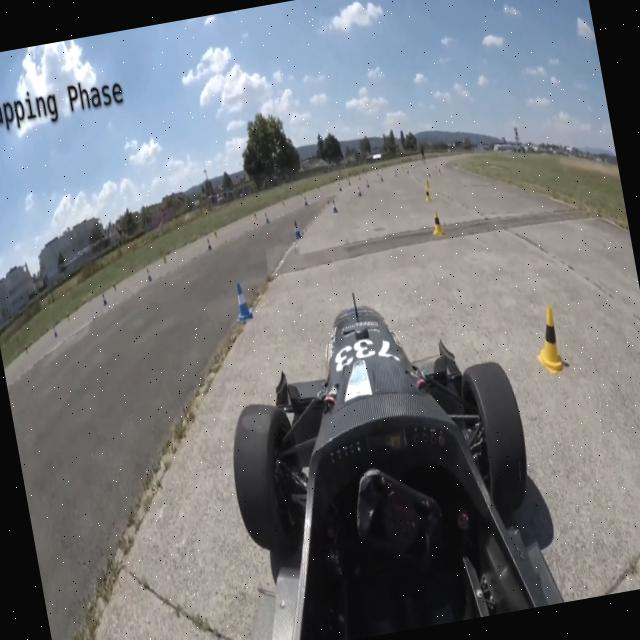blue_cone: (229, 279, 256, 324), (290, 218, 304, 242), (144, 266, 154, 286), (329, 198, 339, 215), (204, 236, 213, 254), (262, 209, 271, 226), (100, 292, 108, 308), (51, 324, 59, 339), (354, 185, 362, 198), (303, 194, 309, 207), (364, 178, 370, 188), (336, 182, 342, 192)
yellow_cone: (528, 302, 570, 374), (428, 209, 446, 237), (423, 188, 432, 204), (160, 251, 168, 264), (424, 178, 431, 190), (212, 228, 218, 241), (65, 309, 71, 322), (427, 171, 432, 181), (112, 282, 116, 292)
